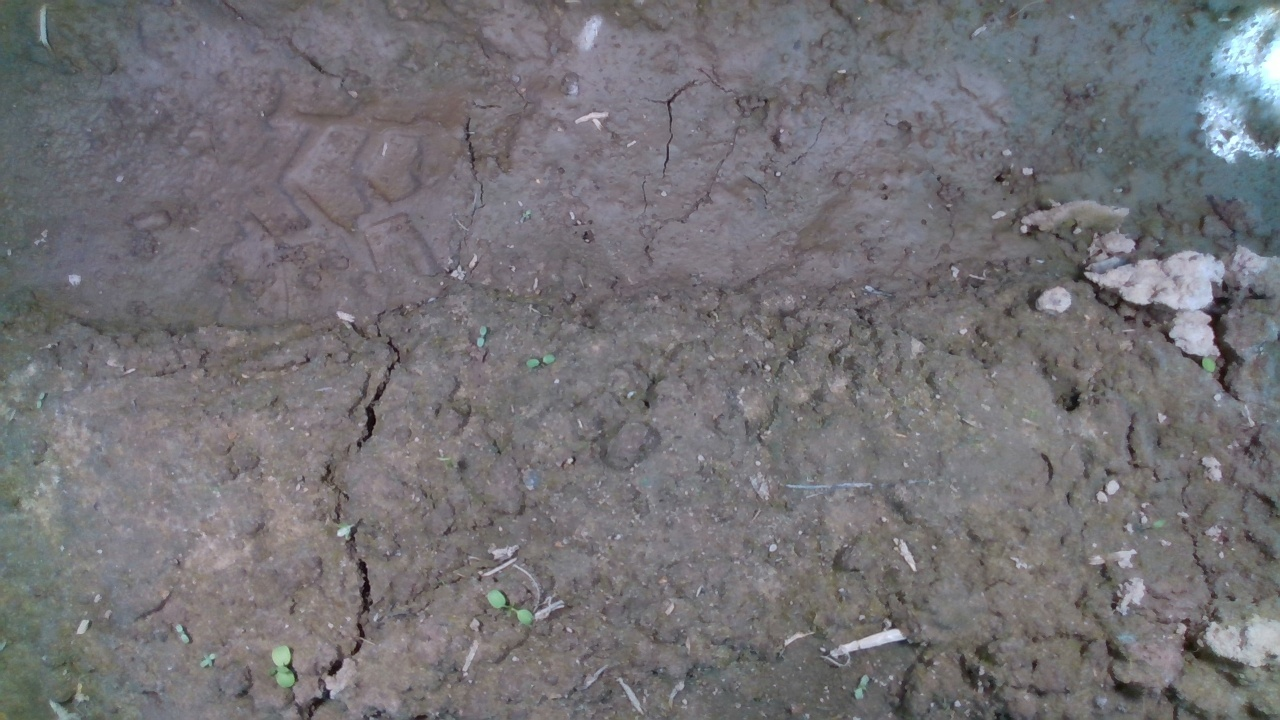weed: (522, 348, 577, 374), (455, 324, 499, 352), (168, 617, 206, 648), (200, 651, 221, 669)
